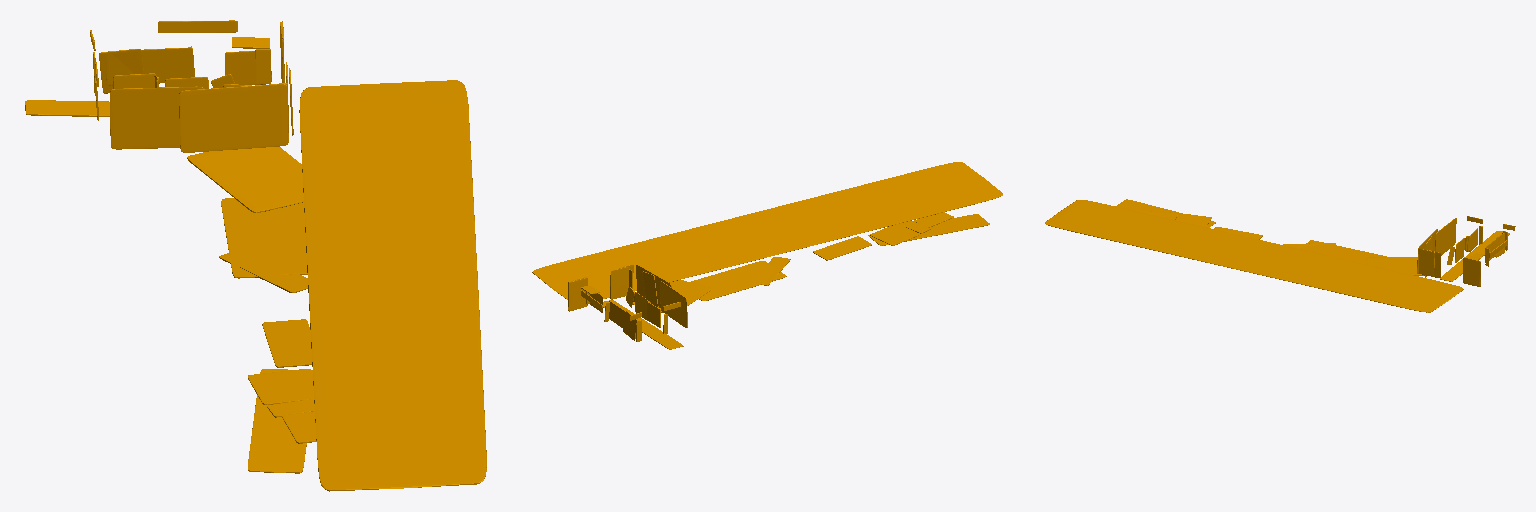
robot.urdf — scene:
<?xml version='1.0' encoding='utf-8'?>
<robot name="scene"><link name="scene_link"><visual><origin xyz="0.000000 0.000000 0.000000" rpy="0.000000 -0.000000 0.000000" /><geometry><mesh filename="part_000.obj" /></geometry></visual><collision><origin xyz="0.000000 0.000000 0.000000" rpy="0.000000 -0.000000 0.000000" /><geometry><mesh filename="part_000.obj" /></geometry></collision><visual><origin xyz="0.000000 0.000000 0.000000" rpy="0.000000 -0.000000 0.000000" /><geometry><mesh filename="part_001.obj" /></geometry></visual><collision><origin xyz="0.000000 0.000000 0.000000" rpy="0.000000 -0.000000 0.000000" /><geometry><mesh filename="part_001.obj" /></geometry></collision><visual><origin xyz="0.000000 0.000000 0.000000" rpy="0.000000 -0.000000 0.000000" /><geometry><mesh filename="part_002.obj" /></geometry></visual><collision><origin xyz="0.000000 0.000000 0.000000" rpy="0.000000 -0.000000 0.000000" /><geometry><mesh filename="part_002.obj" /></geometry></collision><visual><origin xyz="0.000000 0.000000 0.000000" rpy="0.000000 -0.000000 0.000000" /><geometry><mesh filename="part_003.obj" /></geometry></visual><collision><origin xyz="0.000000 0.000000 0.000000" rpy="0.000000 -0.000000 0.000000" /><geometry><mesh filename="part_003.obj" /></geometry></collision><visual><origin xyz="0.000000 0.000000 0.000000" rpy="0.000000 -0.000000 0.000000" /><geometry><mesh filename="part_004.obj" /></geometry></visual><collision><origin xyz="0.000000 0.000000 0.000000" rpy="0.000000 -0.000000 0.000000" /><geometry><mesh filename="part_004.obj" /></geometry></collision><visual><origin xyz="0.000000 0.000000 0.000000" rpy="0.000000 -0.000000 0.000000" /><geometry><mesh filename="part_005.obj" /></geometry></visual><collision><origin xyz="0.000000 0.000000 0.000000" rpy="0.000000 -0.000000 0.000000" /><geometry><mesh filename="part_005.obj" /></geometry></collision><visual><origin xyz="0.000000 0.000000 0.000000" rpy="0.000000 -0.000000 0.000000" /><geometry><mesh filename="part_006.obj" /></geometry></visual><collision><origin xyz="0.000000 0.000000 0.000000" rpy="0.000000 -0.000000 0.000000" /><geometry><mesh filename="part_006.obj" /></geometry></collision><visual><origin xyz="0.000000 0.000000 0.000000" rpy="0.000000 -0.000000 0.000000" /><geometry><mesh filename="part_007.obj" /></geometry></visual><collision><origin xyz="0.000000 0.000000 0.000000" rpy="0.000000 -0.000000 0.000000" /><geometry><mesh filename="part_007.obj" /></geometry></collision><visual><origin xyz="0.000000 0.000000 0.000000" rpy="0.000000 -0.000000 0.000000" /><geometry><mesh filename="part_008.obj" /></geometry></visual><collision><origin xyz="0.000000 0.000000 0.000000" rpy="0.000000 -0.000000 0.000000" /><geometry><mesh filename="part_008.obj" /></geometry></collision><visual><origin xyz="0.000000 0.000000 0.000000" rpy="0.000000 -0.000000 0.000000" /><geometry><mesh filename="part_009.obj" /></geometry></visual><collision><origin xyz="0.000000 0.000000 0.000000" rpy="0.000000 -0.000000 0.000000" /><geometry><mesh filename="part_009.obj" /></geometry></collision><visual><origin xyz="0.000000 0.000000 0.000000" rpy="0.000000 -0.000000 0.000000" /><geometry><mesh filename="part_010.obj" /></geometry></visual><collision><origin xyz="0.000000 0.000000 0.000000" rpy="0.000000 -0.000000 0.000000" /><geometry><mesh filename="part_010.obj" /></geometry></collision><visual><origin xyz="0.000000 0.000000 0.000000" rpy="0.000000 -0.000000 0.000000" /><geometry><mesh filename="part_011.obj" /></geometry></visual><collision><origin xyz="0.000000 0.000000 0.000000" rpy="0.000000 -0.000000 0.000000" /><geometry><mesh filename="part_011.obj" /></geometry></collision><visual><origin xyz="0.000000 0.000000 0.000000" rpy="0.000000 -0.000000 0.000000" /><geometry><mesh filename="part_012.obj" /></geometry></visual><collision><origin xyz="0.000000 0.000000 0.000000" rpy="0.000000 -0.000000 0.000000" /><geometry><mesh filename="part_012.obj" /></geometry></collision><visual><origin xyz="0.000000 0.000000 0.000000" rpy="0.000000 -0.000000 0.000000" /><geometry><mesh filename="part_013.obj" /></geometry></visual><collision><origin xyz="0.000000 0.000000 0.000000" rpy="0.000000 -0.000000 0.000000" /><geometry><mesh filename="part_013.obj" /></geometry></collision><visual><origin xyz="0.000000 0.000000 0.000000" rpy="0.000000 -0.000000 0.000000" /><geometry><mesh filename="part_014.obj" /></geometry></visual><collision><origin xyz="0.000000 0.000000 0.000000" rpy="0.000000 -0.000000 0.000000" /><geometry><mesh filename="part_014.obj" /></geometry></collision><visual><origin xyz="0.000000 0.000000 0.000000" rpy="0.000000 -0.000000 0.000000" /><geometry><mesh filename="part_015.obj" /></geometry></visual><collision><origin xyz="0.000000 0.000000 0.000000" rpy="0.000000 -0.000000 0.000000" /><geometry><mesh filename="part_015.obj" /></geometry></collision><visual><origin xyz="0.000000 0.000000 0.000000" rpy="0.000000 -0.000000 0.000000" /><geometry><mesh filename="part_016.obj" /></geometry></visual><collision><origin xyz="0.000000 0.000000 0.000000" rpy="0.000000 -0.000000 0.000000" /><geometry><mesh filename="part_016.obj" /></geometry></collision><visual><origin xyz="0.000000 0.000000 0.000000" rpy="0.000000 -0.000000 0.000000" /><geometry><mesh filename="part_017.obj" /></geometry></visual><collision><origin xyz="0.000000 0.000000 0.000000" rpy="0.000000 -0.000000 0.000000" /><geometry><mesh filename="part_017.obj" /></geometry></collision><visual><origin xyz="0.000000 0.000000 0.000000" rpy="0.000000 -0.000000 0.000000" /><geometry><mesh filename="part_018.obj" /></geometry></visual><collision><origin xyz="0.000000 0.000000 0.000000" rpy="0.000000 -0.000000 0.000000" /><geometry><mesh filename="part_018.obj" /></geometry></collision><visual><origin xyz="0.000000 0.000000 0.000000" rpy="0.000000 -0.000000 0.000000" /><geometry><mesh filename="part_019.obj" /></geometry></visual><collision><origin xyz="0.000000 0.000000 0.000000" rpy="0.000000 -0.000000 0.000000" /><geometry><mesh filename="part_019.obj" /></geometry></collision><visual><origin xyz="0.000000 0.000000 0.000000" rpy="0.000000 -0.000000 0.000000" /><geometry><mesh filename="part_020.obj" /></geometry></visual><collision><origin xyz="0.000000 0.000000 0.000000" rpy="0.000000 -0.000000 0.000000" /><geometry><mesh filename="part_020.obj" /></geometry></collision><visual><origin xyz="0.000000 0.000000 0.000000" rpy="0.000000 -0.000000 0.000000" /><geometry><mesh filename="part_021.obj" /></geometry></visual><collision><origin xyz="0.000000 0.000000 0.000000" rpy="0.000000 -0.000000 0.000000" /><geometry><mesh filename="part_021.obj" /></geometry></collision><visual><origin xyz="0.000000 0.000000 0.000000" rpy="0.000000 -0.000000 0.000000" /><geometry><mesh filename="part_022.obj" /></geometry></visual><collision><origin xyz="0.000000 0.000000 0.000000" rpy="0.000000 -0.000000 0.000000" /><geometry><mesh filename="part_022.obj" /></geometry></collision><visual><origin xyz="0.000000 0.000000 0.000000" rpy="0.000000 -0.000000 0.000000" /><geometry><mesh filename="part_023.obj" /></geometry></visual><collision><origin xyz="0.000000 0.000000 0.000000" rpy="0.000000 -0.000000 0.000000" /><geometry><mesh filename="part_023.obj" /></geometry></collision><visual><origin xyz="0.000000 0.000000 0.000000" rpy="0.000000 -0.000000 0.000000" /><geometry><mesh filename="part_024.obj" /></geometry></visual><collision><origin xyz="0.000000 0.000000 0.000000" rpy="0.000000 -0.000000 0.000000" /><geometry><mesh filename="part_024.obj" /></geometry></collision><visual><origin xyz="0.000000 0.000000 0.000000" rpy="0.000000 -0.000000 0.000000" /><geometry><mesh filename="part_025.obj" /></geometry></visual><collision><origin xyz="0.000000 0.000000 0.000000" rpy="0.000000 -0.000000 0.000000" /><geometry><mesh filename="part_025.obj" /></geometry></collision><visual><origin xyz="0.000000 0.000000 0.000000" rpy="0.000000 -0.000000 0.000000" /><geometry><mesh filename="part_026.obj" /></geometry></visual><collision><origin xyz="0.000000 0.000000 0.000000" rpy="0.000000 -0.000000 0.000000" /><geometry><mesh filename="part_026.obj" /></geometry></collision><visual><origin xyz="0.000000 0.000000 0.000000" rpy="0.000000 -0.000000 0.000000" /><geometry><mesh filename="part_027.obj" /></geometry></visual><collision><origin xyz="0.000000 0.000000 0.000000" rpy="0.000000 -0.000000 0.000000" /><geometry><mesh filename="part_027.obj" /></geometry></collision><visual><origin xyz="0.000000 0.000000 0.000000" rpy="0.000000 -0.000000 0.000000" /><geometry><mesh filename="part_028.obj" /></geometry></visual><collision><origin xyz="0.000000 0.000000 0.000000" rpy="0.000000 -0.000000 0.000000" /><geometry><mesh filename="part_028.obj" /></geometry></collision><visual><origin xyz="0.000000 0.000000 0.000000" rpy="0.000000 -0.000000 0.000000" /><geometry><mesh filename="part_029.obj" /></geometry></visual><collision><origin xyz="0.000000 0.000000 0.000000" rpy="0.000000 -0.000000 0.000000" /><geometry><mesh filename="part_029.obj" /></geometry></collision><visual><origin xyz="0.000000 0.000000 0.000000" rpy="0.000000 -0.000000 0.000000" /><geometry><mesh filename="part_030.obj" /></geometry></visual><collision><origin xyz="0.000000 0.000000 0.000000" rpy="0.000000 -0.000000 0.000000" /><geometry><mesh filename="part_030.obj" /></geometry></collision><visual><origin xyz="0.000000 0.000000 0.000000" rpy="0.000000 -0.000000 0.000000" /><geometry><mesh filename="part_031.obj" /></geometry></visual><collision><origin xyz="0.000000 0.000000 0.000000" rpy="0.000000 -0.000000 0.000000" /><geometry><mesh filename="part_031.obj" /></geometry></collision><visual><origin xyz="0.000000 0.000000 0.000000" rpy="0.000000 -0.000000 0.000000" /><geometry><mesh filename="part_032.obj" /></geometry></visual><collision><origin xyz="0.000000 0.000000 0.000000" rpy="0.000000 -0.000000 0.000000" /><geometry><mesh filename="part_032.obj" /></geometry></collision><visual><origin xyz="0.000000 0.000000 0.000000" rpy="0.000000 -0.000000 0.000000" /><geometry><mesh filename="part_033.obj" /></geometry></visual><collision><origin xyz="0.000000 0.000000 0.000000" rpy="0.000000 -0.000000 0.000000" /><geometry><mesh filename="part_033.obj" /></geometry></collision><visual><origin xyz="0.000000 0.000000 0.000000" rpy="0.000000 -0.000000 0.000000" /><geometry><mesh filename="part_034.obj" /></geometry></visual><collision><origin xyz="0.000000 0.000000 0.000000" rpy="0.000000 -0.000000 0.000000" /><geometry><mesh filename="part_034.obj" /></geometry></collision><visual><origin xyz="0.000000 0.000000 0.000000" rpy="0.000000 -0.000000 0.000000" /><geometry><mesh filename="part_035.obj" /></geometry></visual><collision><origin xyz="0.000000 0.000000 0.000000" rpy="0.000000 -0.000000 0.000000" /><geometry><mesh filename="part_035.obj" /></geometry></collision><visual><origin xyz="0.000000 0.000000 0.000000" rpy="0.000000 -0.000000 0.000000" /><geometry><mesh filename="part_036.obj" /></geometry></visual><collision><origin xyz="0.000000 0.000000 0.000000" rpy="0.000000 -0.000000 0.000000" /><geometry><mesh filename="part_036.obj" /></geometry></collision><visual><origin xyz="0.000000 0.000000 0.000000" rpy="0.000000 -0.000000 0.000000" /><geometry><mesh filename="part_037.obj" /></geometry></visual><collision><origin xyz="0.000000 0.000000 0.000000" rpy="0.000000 -0.000000 0.000000" /><geometry><mesh filename="part_037.obj" /></geometry></collision></link></robot>

--- Render facts (derived) ---
The picture shows the robot from 3 angles, left to right: view 1: azimuth 30°, elevation 25°; view 2: azimuth 150°, elevation 25°; view 3: azimuth 270°, elevation 25°; orthographic projection.
Model scene with 1 links and 0 joints (none), rooted at scene_link, posed all joints at 0.
Links seen in each view (by area): view 1: scene_link; view 2: scene_link; view 3: scene_link.
Boxes of the visible links, left/top/right/bottom form: scene_link: left=25, top=20, right=486, bottom=491; scene_link: left=532, top=162, right=1002, bottom=349; scene_link: left=1045, top=199, right=1515, bottom=312.
Size in the robot's own frame: 14.94 by 24.45 by 1.91 metres.
38 mesh visuals loaded from 38 distinct referenced files (38 OBJ).